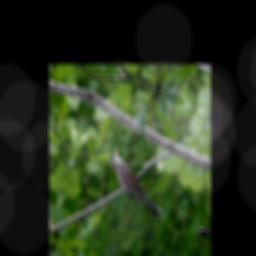Cuckoo: (100, 144, 174, 220)
